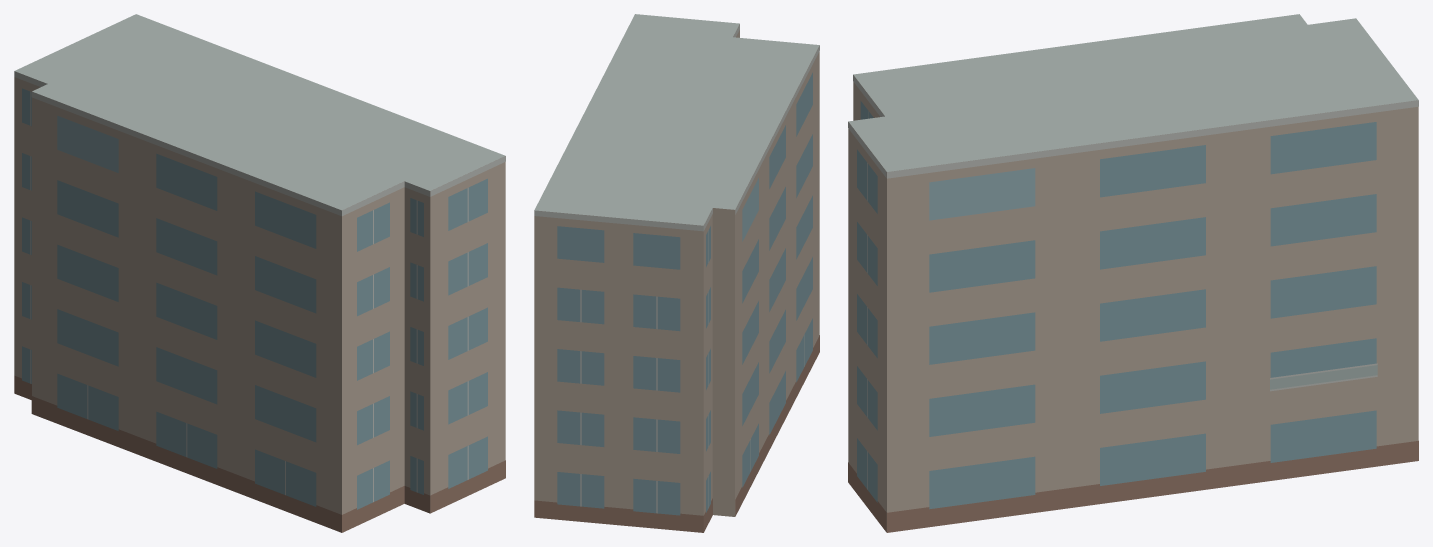
The model's file is survey-upis-32609038.glb.
The picture shows the model from 3 angles, left to right: view 1: azimuth 30°, elevation 25°; view 2: azimuth 150°, elevation 25°; view 3: azimuth 270°, elevation 25°; orthographic projection. The views are drawn at different scales.
Parts seen in each view (by area): view 1: survey-upis-32609038.tmp; view 2: survey-upis-32609038.tmp; view 3: survey-upis-32609038.tmp.
Boxes of the visible parts, x1,y1,x2,y2 form: survey-upis-32609038.tmp: (14,14,505,532); survey-upis-32609038.tmp: (534,14,819,532); survey-upis-32609038.tmp: (848,14,1418,532).
Bounding box in the file's own units: 12.55 × 13.35 × 19.15.
